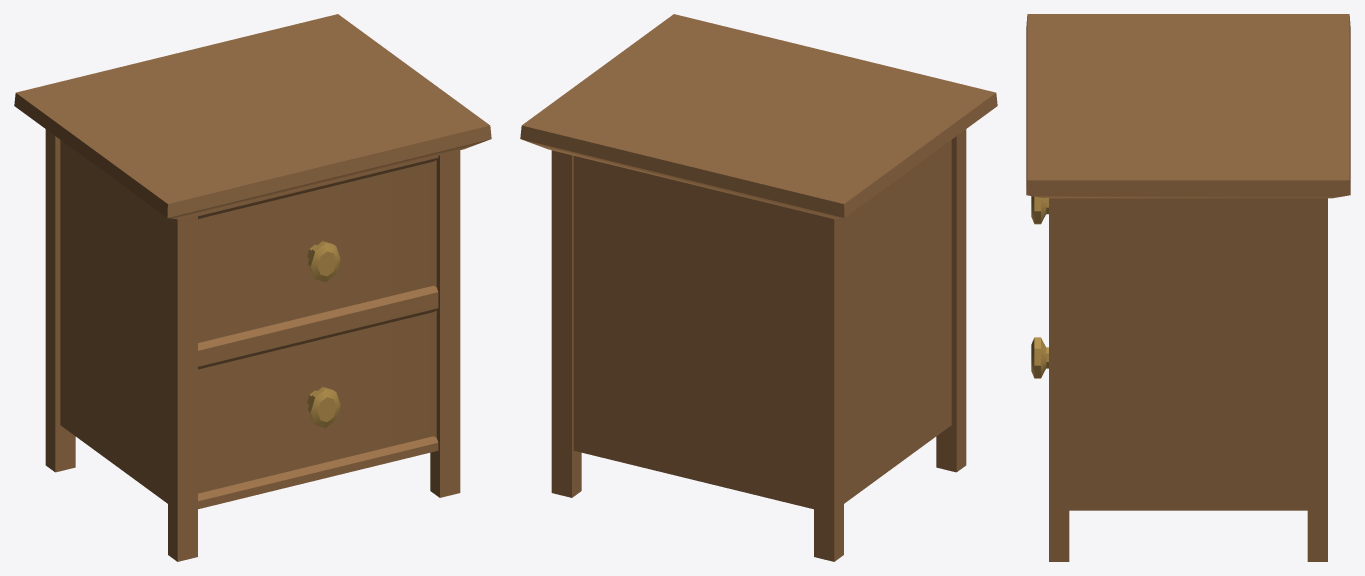
The model's file is pk_end_oak.glb.
3 views of the same model, side by side, from view 1: azimuth 30°, elevation 25°; view 2: azimuth 150°, elevation 25°; view 3: azimuth 270°, elevation 25° (orthographic). The views are drawn at different scales.
Parts seen in each view (by area): view 1: pk_end_oak; view 2: pk_end_oak; view 3: pk_end_oak.
Boxes of the visible parts, box(x1,y1,x2,y2) form: pk_end_oak: box(14, 14, 491, 561); pk_end_oak: box(520, 14, 997, 561); pk_end_oak: box(1026, 14, 1350, 561).
Size of the model in its own units: 0.55 by 0.6 by 0.45.
Materials: 1 (1 with a texture image).
